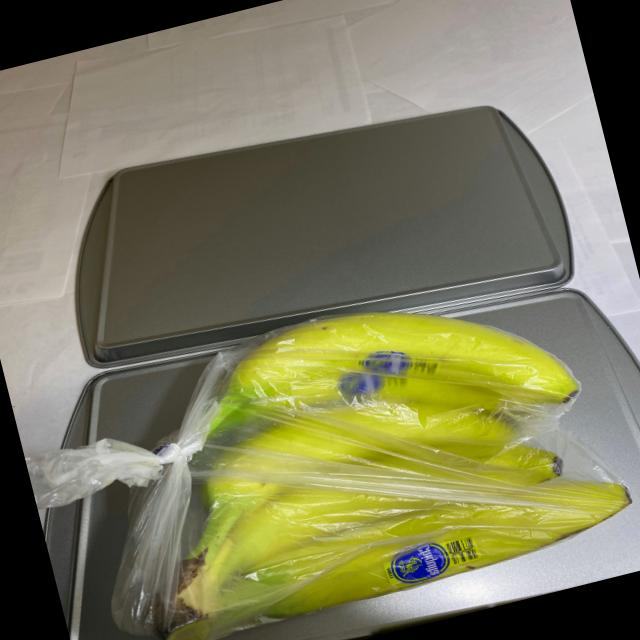banana: (57, 252, 640, 640)
